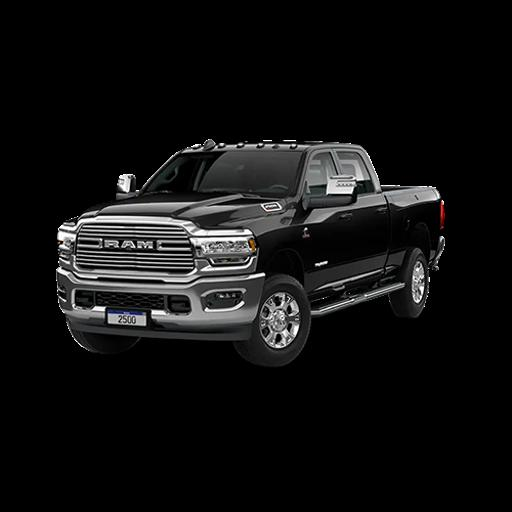truck: (58, 140, 442, 364)
